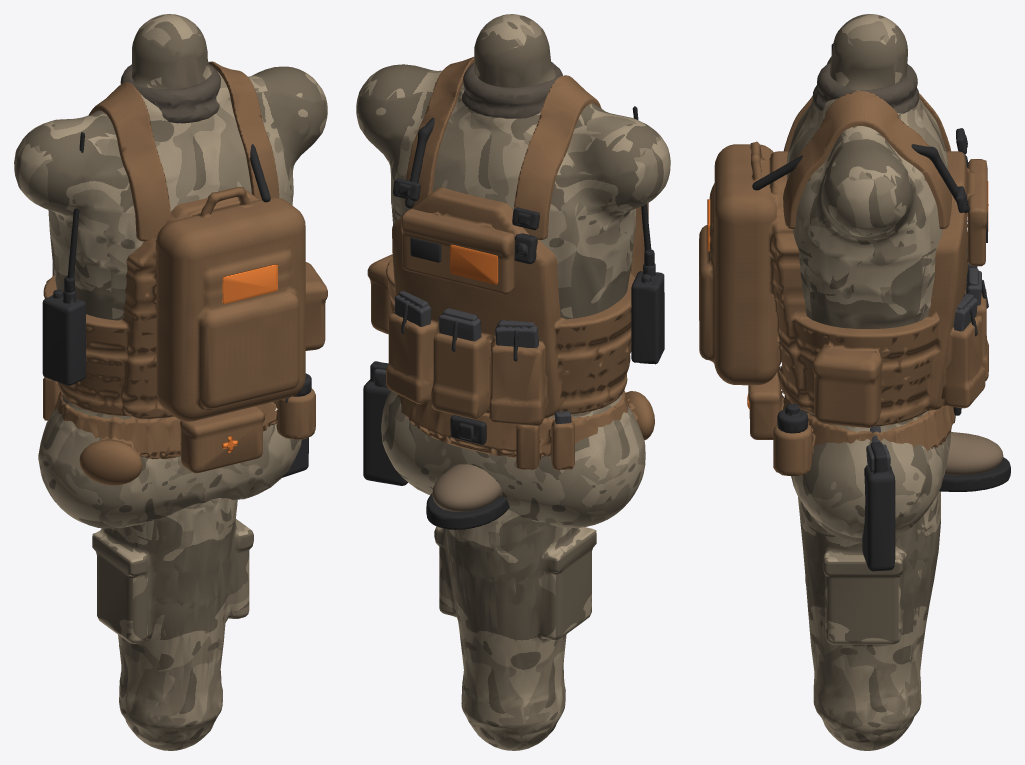
File: operator.glb
The picture shows the model from 3 angles, left to right: view 1: azimuth 30°, elevation 25°; view 2: azimuth 150°, elevation 25°; view 3: azimuth 270°, elevation 25°; orthographic projection.
Parts seen in each view (by area): view 1: chest.ember, pelvis.ember, thigh_l.ember, thigh_r.ember; view 2: chest.ember, pelvis.ember, thigh_l.ember, thigh_r.ember, foot_r.ember; view 3: chest.ember, pelvis.ember, thigh_r.ember, thigh_l.ember, foot_r.ember.
Boxes of the visible parts, x1=… form: chest.ember: x1=14, y1=14, x2=327, y2=421; pelvis.ember: x1=38, y1=373, x2=315, y2=528; thigh_l.ember: x1=92, y1=498, x2=237, y2=750; thigh_r.ember: x1=112, y1=498, x2=253, y2=750; chest.ember: x1=356, y1=14, x2=670, y2=425; pelvis.ember: x1=363, y1=361, x2=654, y2=528; thigh_l.ember: x1=446, y1=517, x2=596, y2=750; thigh_r.ember: x1=434, y1=509, x2=574, y2=750; foot_r.ember: x1=426, y1=464, x2=509, y2=529; chest.ember: x1=699, y1=14, x2=988, y2=427; pelvis.ember: x1=747, y1=366, x2=961, y2=571; thigh_r.ember: x1=798, y1=491, x2=940, y2=750; thigh_l.ember: x1=798, y1=491, x2=940, y2=750; foot_r.ember: x1=939, y1=431, x2=1010, y2=491.
Bounding box in the file's own units: 0.4974 × 1.15 × 0.4444.
42 materials, 12 textured.
